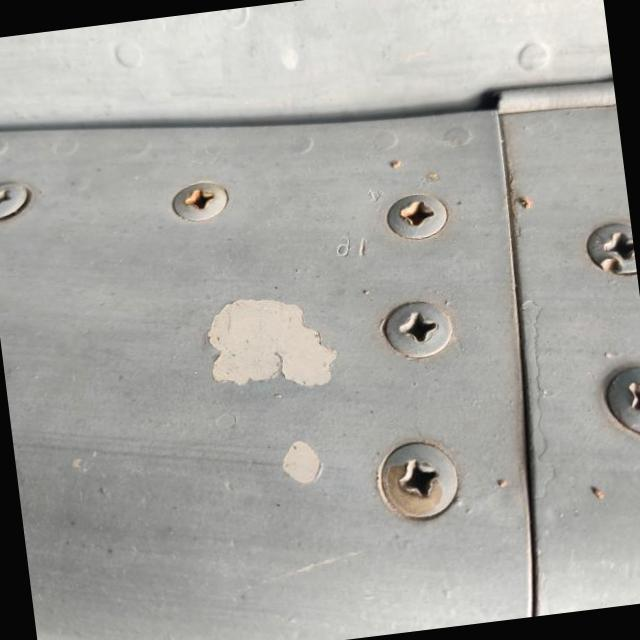paint-off: (176, 258, 357, 424), (248, 410, 350, 510)
